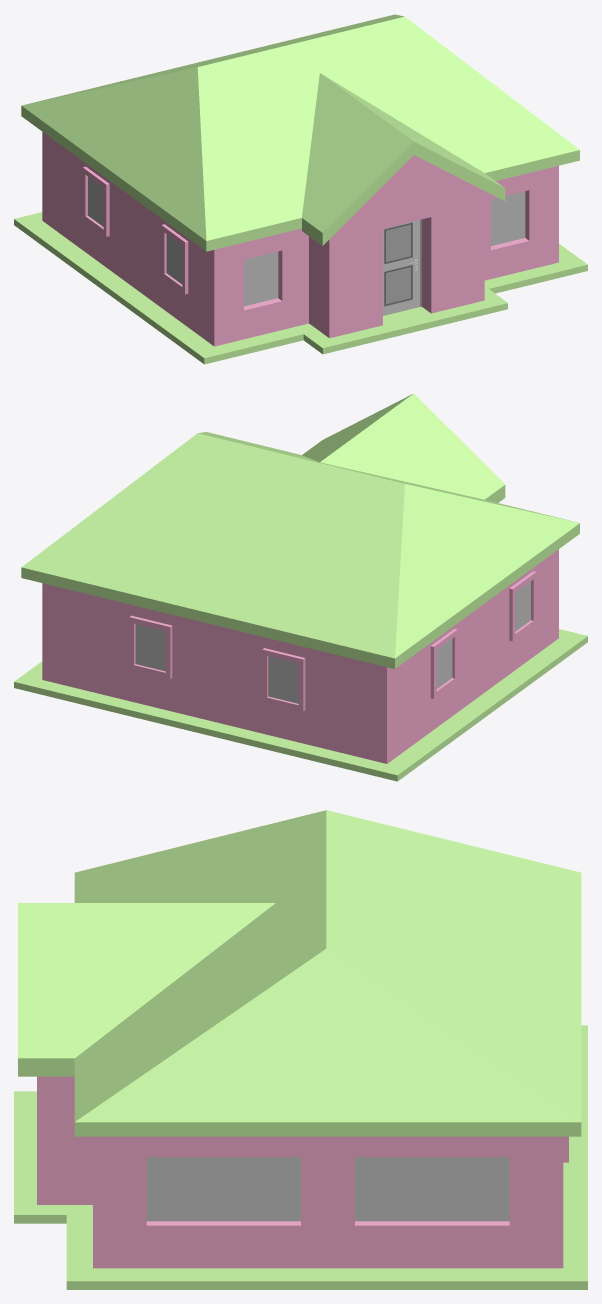
File: Town_Bld_House_C.FBX
3 views of the same model, one above another, from view 1: azimuth 30°, elevation 25°; view 2: azimuth 150°, elevation 25°; view 3: azimuth 270°, elevation 25° (orthographic). The views are drawn at different scales.
Visible parts, largest first — view 1: Town_Bld_House_C; view 2: Town_Bld_House_C; view 3: Town_Bld_House_C.
Part boxes in pixels (bbox=[...]): Town_Bld_House_C: bbox=[14, 14, 587, 364]; Town_Bld_House_C: bbox=[14, 393, 587, 781]; Town_Bld_House_C: bbox=[14, 810, 587, 1289].
Size of the model in its own units: 544 by 280 by 515.
